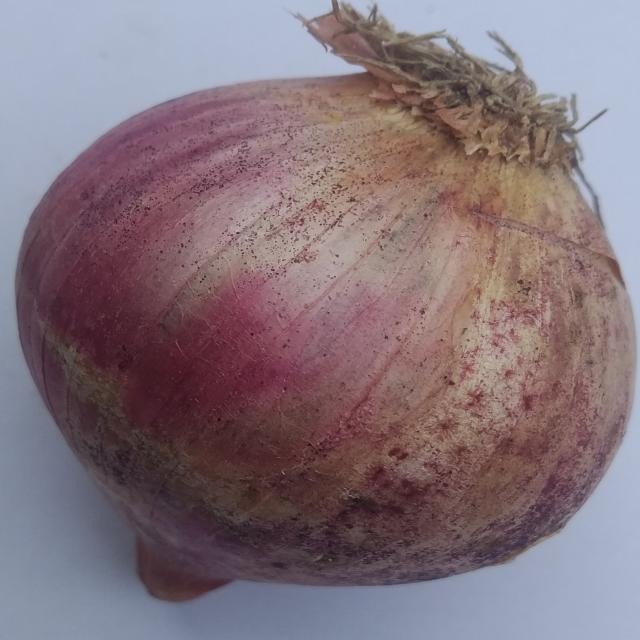onion: (13, 0, 637, 604)
